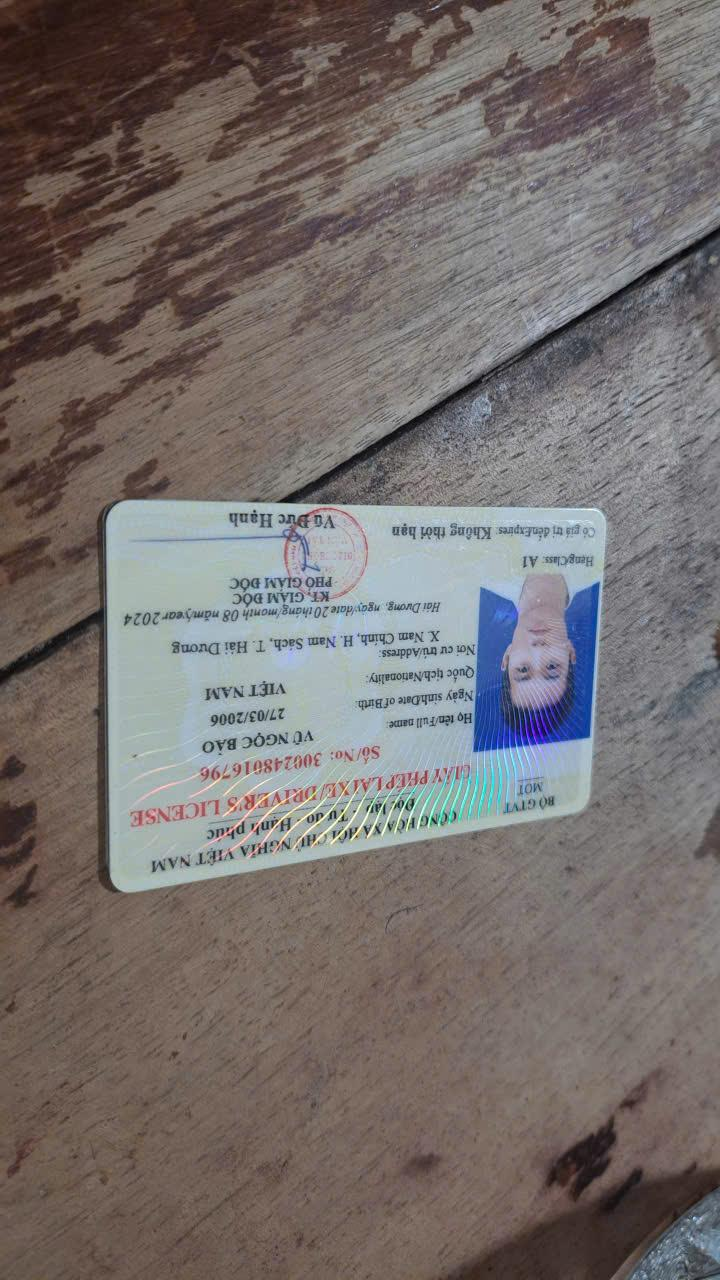gplx: (94, 491, 612, 903)
